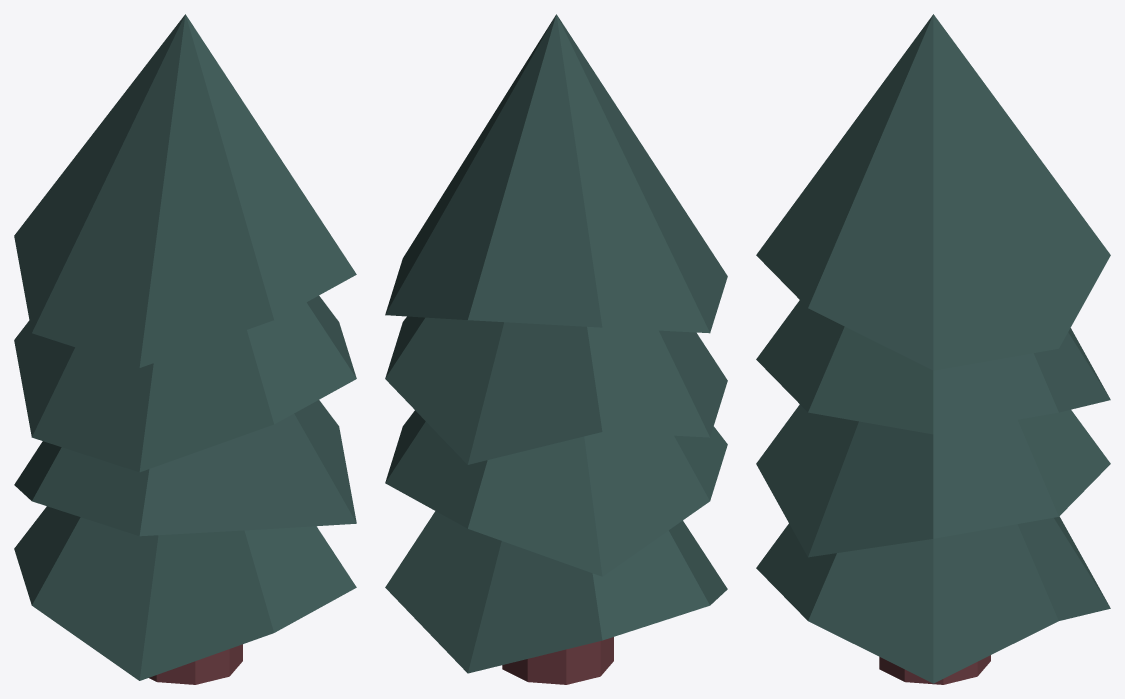
File: pine 3-1.gltf
3 renders of one model, left to right at view 1: azimuth 30°, elevation 25°; view 2: azimuth 150°, elevation 25°; view 3: azimuth 270°, elevation 25°, orthographic.
Parts seen in each view (by area): view 1: Cone.046, Cone.049, Cone.047, Cone.048, Cylinder.011; view 2: Cone.046, Cone.047, Cone.048, Cone.049, Cylinder.011; view 3: Cone.046, Cone.048, Cone.049, Cone.047, Cylinder.011.
Boxes of the visible parts, x1=… form: Cone.046: x1=14, y1=14, x2=356, y2=367; Cone.049: x1=14, y1=506, x2=356, y2=680; Cone.047: x1=14, y1=295, x2=356, y2=472; Cone.048: x1=14, y1=400, x2=356, y2=536; Cylinder.011: x1=149, y1=644, x2=242, y2=684; Cone.046: x1=385, y1=14, x2=727, y2=333; Cone.047: x1=385, y1=316, x2=727, y2=464; Cone.048: x1=385, y1=410, x2=727, y2=576; Cone.049: x1=385, y1=511, x2=727, y2=673; Cylinder.011: x1=502, y1=637, x2=613, y2=684; Cone.046: x1=756, y1=14, x2=1110, y2=370; Cone.048: x1=756, y1=404, x2=1110, y2=557; Cone.049: x1=756, y1=516, x2=1110, y2=683; Cone.047: x1=756, y1=300, x2=1110, y2=434; Cylinder.011: x1=879, y1=655, x2=990, y2=684.
Size of the model in its own units: 6.17 by 12.41 by 6.17.
1 material, 1 textured.
